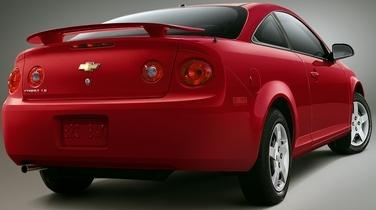back_view: (9, 48, 253, 168)
backlight: (137, 54, 221, 93)
side_glass: (248, 6, 337, 65)
